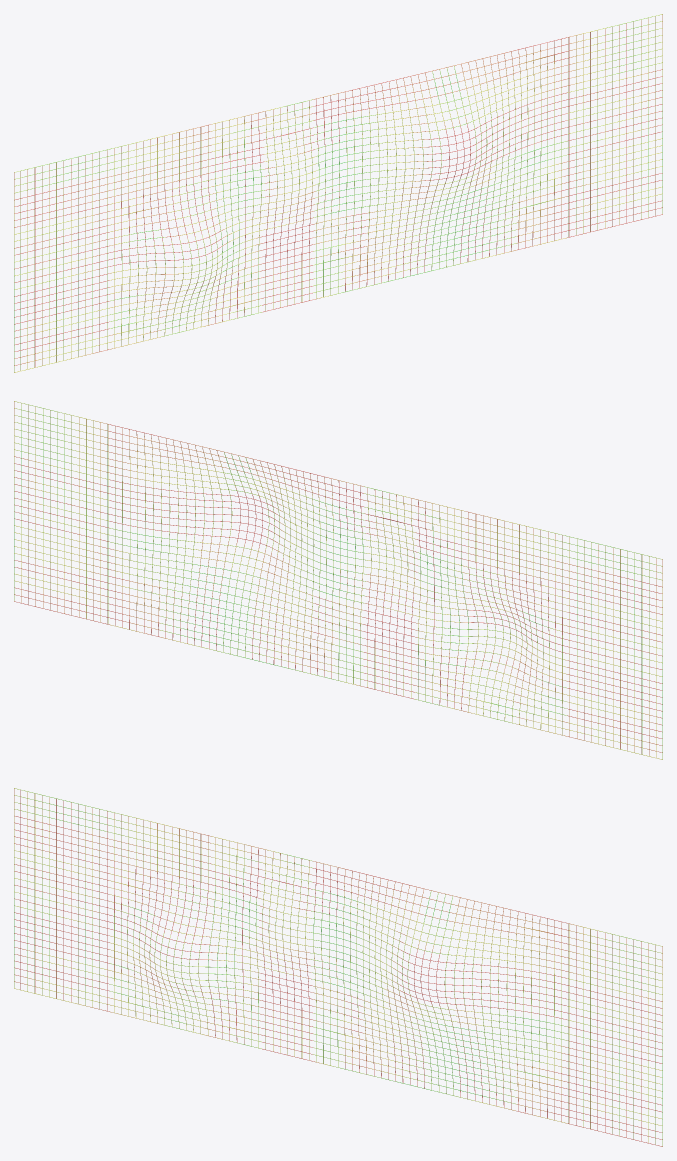
File: 1118-2D高度热力图-2.fbx
3 views of the same model, one above another, from view 1: azimuth 30°, elevation 25°; view 2: azimuth 150°, elevation 25°; view 3: azimuth 330°, elevation 25° (orthographic).
Parts seen in each view (by area): view 1: 物件_117, 物件_119, 物件_95, 物件_114, 物件_99, 物件_111, 物件_109, 物件_116, 物件_96, 物件_103, 物件_106, 物件_115 (+18 smaller); view 2: 物件_119, 物件_96, 物件_99, 物件_106, 物件_97, 物件_107, 物件_116, 物件_94, 物件_108, 物件_118, 物件_1, 物件_95 (+18 smaller); view 3: 物件_117, 物件_95, 物件_115, 物件_120, 物件_110, 物件_106, 物件_3, 物件_98, 物件_119, 物件_1, 物件_97, 物件_107 (+18 smaller).
Boxes of the visible parts, box(x1,y1,x2,y2) form: 物件_117: box(14, 180, 662, 338); 物件_119: box(14, 193, 662, 351); 物件_95: box(14, 28, 662, 186); 物件_114: box(14, 159, 662, 317); 物件_99: box(14, 55, 662, 213); 物件_111: box(14, 138, 662, 296); 物件_109: box(14, 124, 662, 282); 物件_116: box(14, 173, 662, 331); 物件_96: box(14, 35, 662, 193); 物件_103: box(14, 83, 662, 241); 物件_106: box(14, 104, 662, 262); 物件_115: box(14, 166, 662, 324); 物件_119: box(14, 580, 662, 738); 物件_96: box(14, 422, 662, 580); 物件_99: box(14, 442, 662, 600); 物件_106: box(14, 491, 662, 649); 物件_97: box(15, 429, 662, 587); 物件_107: box(14, 498, 662, 656); 物件_116: box(14, 560, 662, 718); 物件_94: box(14, 408, 662, 566); 物件_108: box(14, 504, 662, 662); 物件_118: box(14, 573, 661, 731); 物件_1: box(14, 601, 662, 759); 物件_95: box(14, 415, 662, 573); 物件_117: box(14, 954, 662, 1112); 物件_95: box(14, 802, 662, 960); 物件_115: box(14, 940, 662, 1098); 物件_120: box(14, 974, 662, 1132); 物件_110: box(14, 905, 662, 1063); 物件_106: box(14, 878, 662, 1036); 物件_3: box(14, 788, 662, 946); 物件_98: box(14, 822, 662, 980); 物件_119: box(14, 967, 662, 1125); 物件_1: box(14, 988, 662, 1146); 物件_97: box(15, 816, 662, 974); 物件_107: box(14, 885, 662, 1043).
Bounding box in the file's own units: 1574 × 465 × 77.14.
